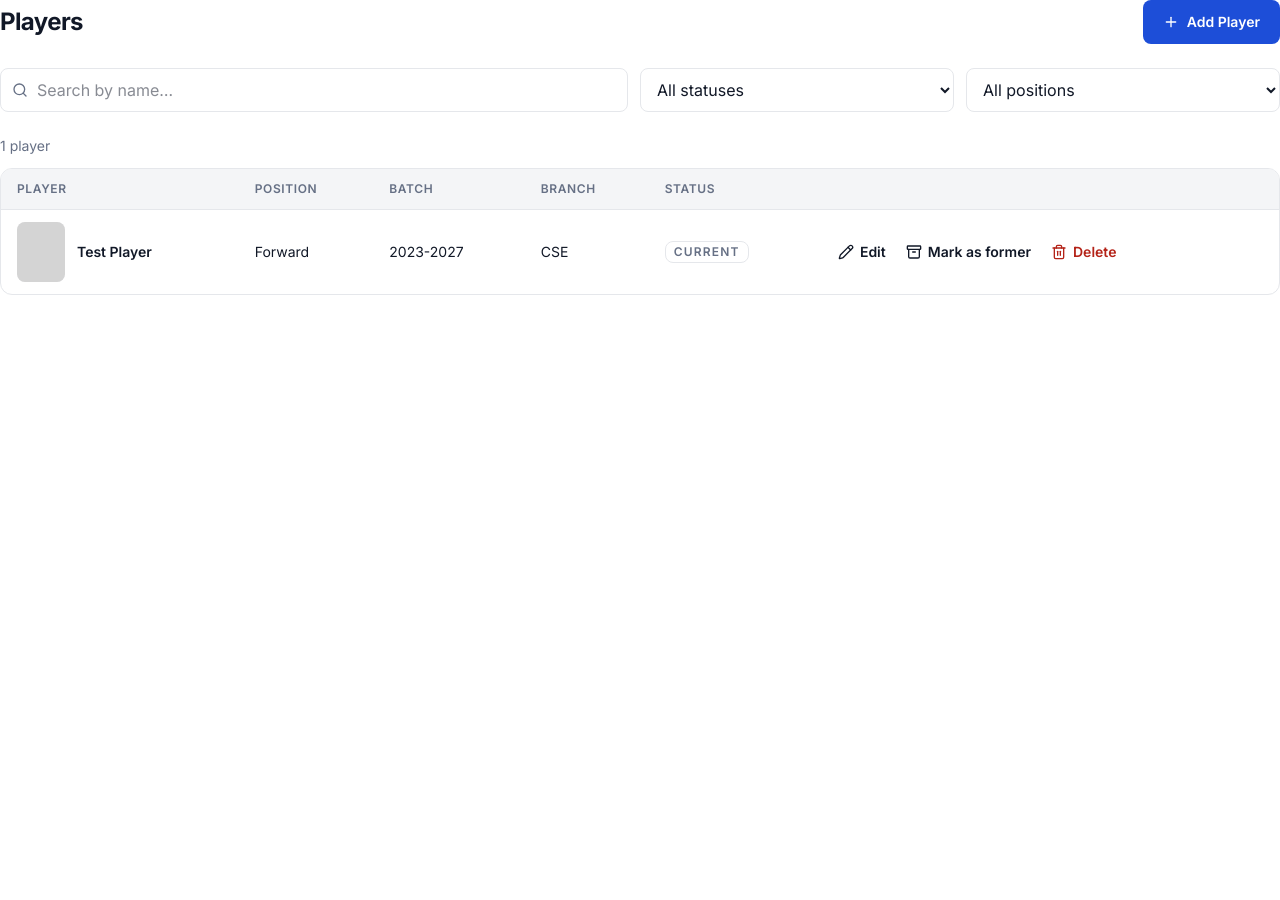
it: AdminPlayers › deletes only after a separate, destructive confirmation
The width and height of the screenshot is (1280, 900).
Expected: the table named "Players" is shown, [1, 169, 1279, 294]
Click the button with aria-label "Delete Test Player" at (1084, 252), box [1043, 230, 1124, 274]
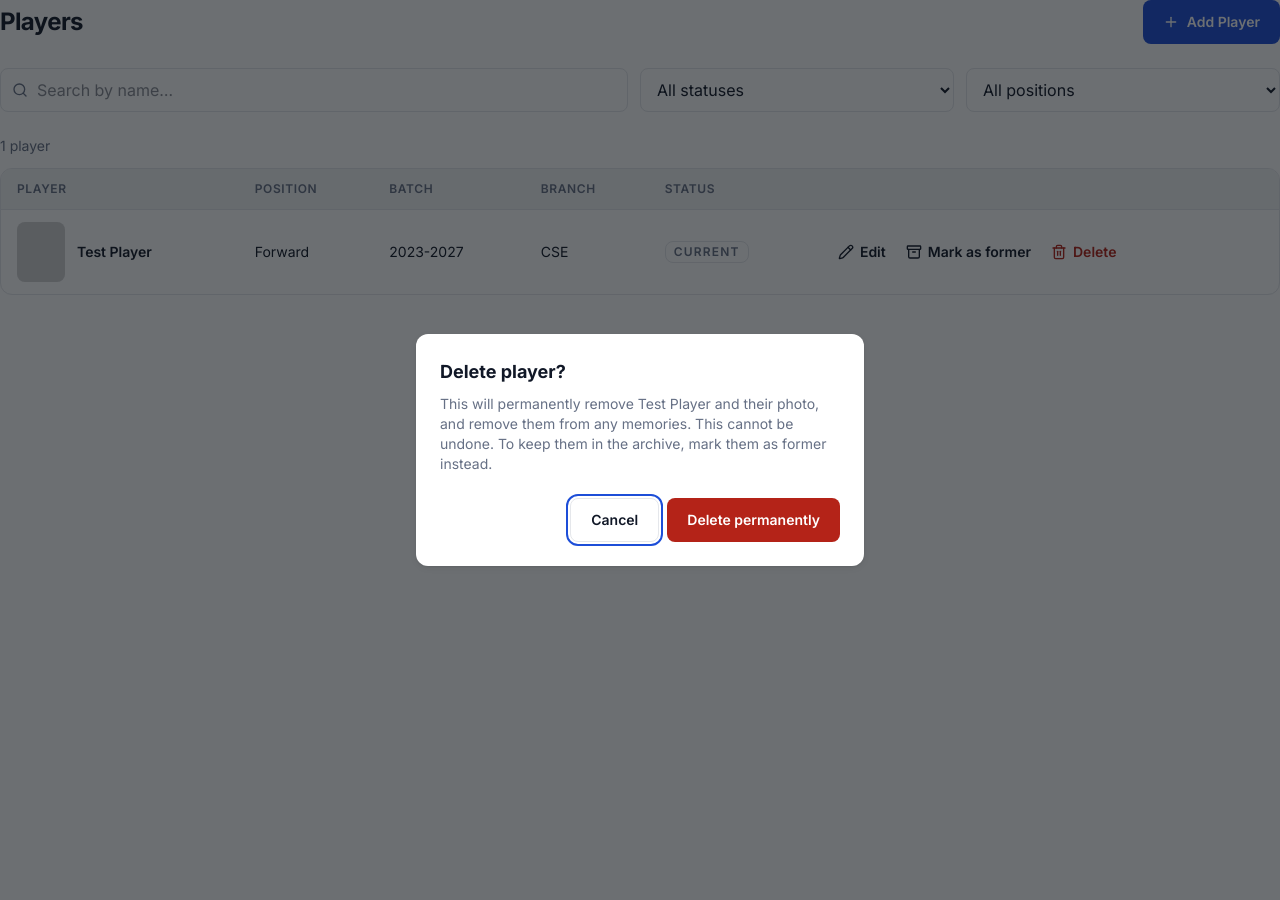
Now the dialog "Delete player?" shows "permanently remove Test Player and their photo", box [416, 334, 864, 566]
Now the dialog "Delete player?" shows "mark them as former instead", box [440, 395, 826, 472]
Now the button "Cancel" is shown, box [570, 498, 659, 542]
Click the button "Delete permanently" at (754, 520), box [667, 498, 840, 542]
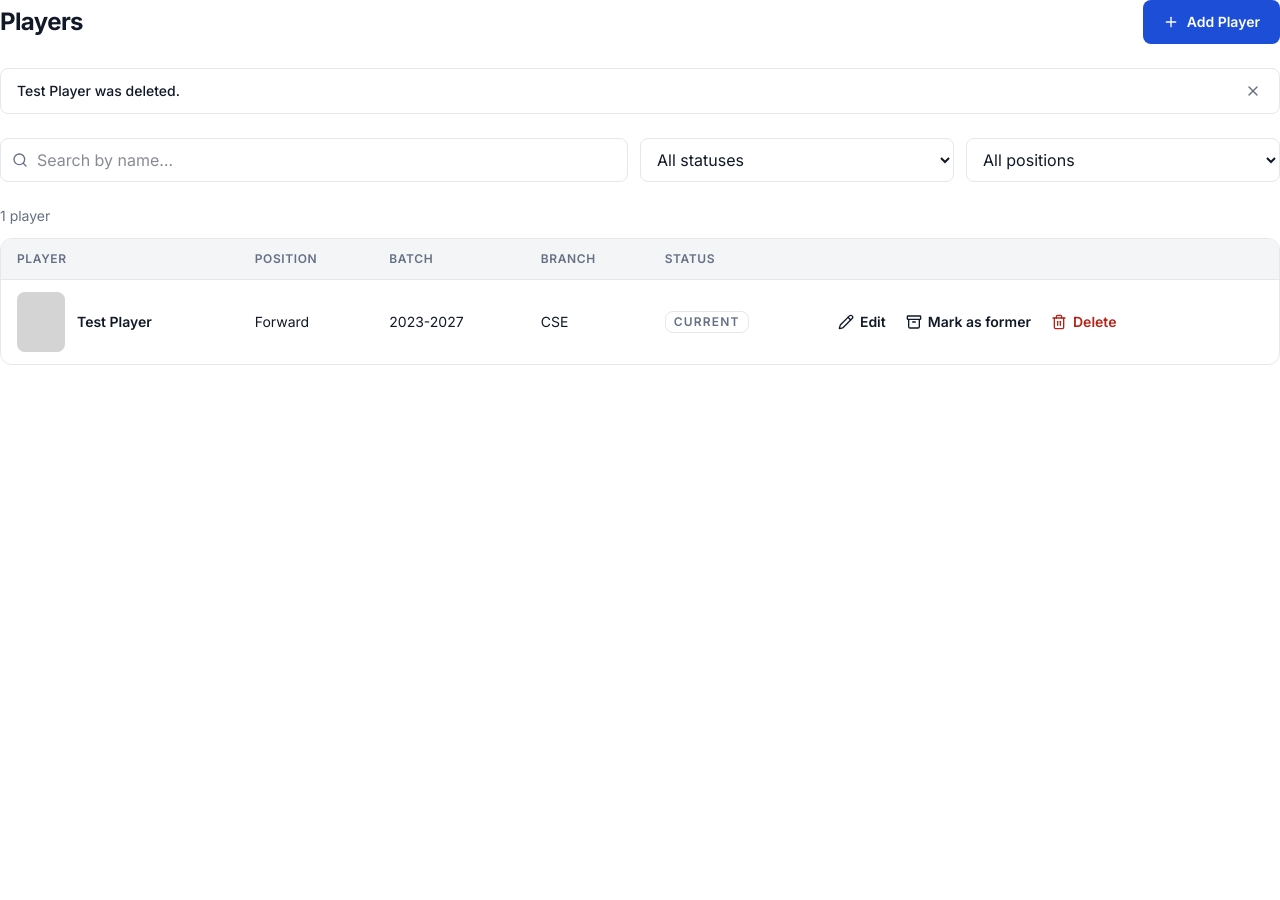
Now the message reads "Test Player was deleted.", box [17, 82, 180, 99]
